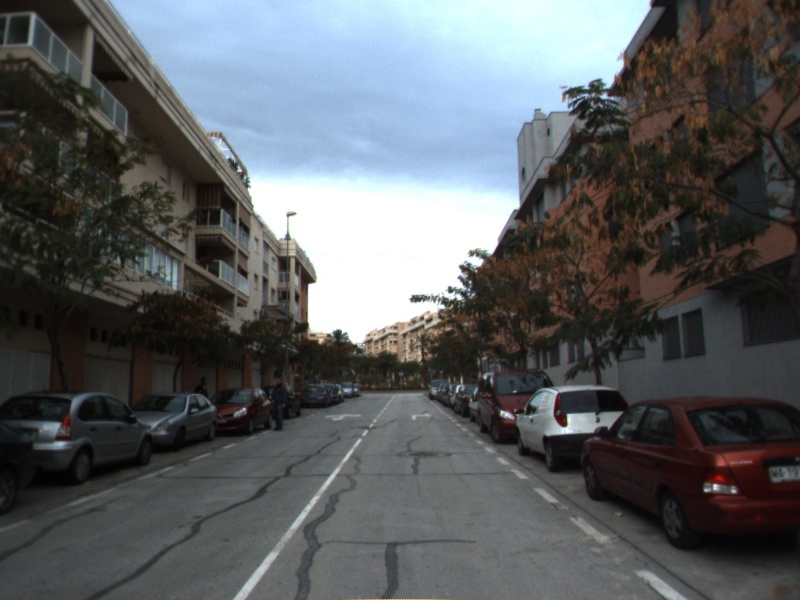RIGHT: (409, 411, 434, 422)
